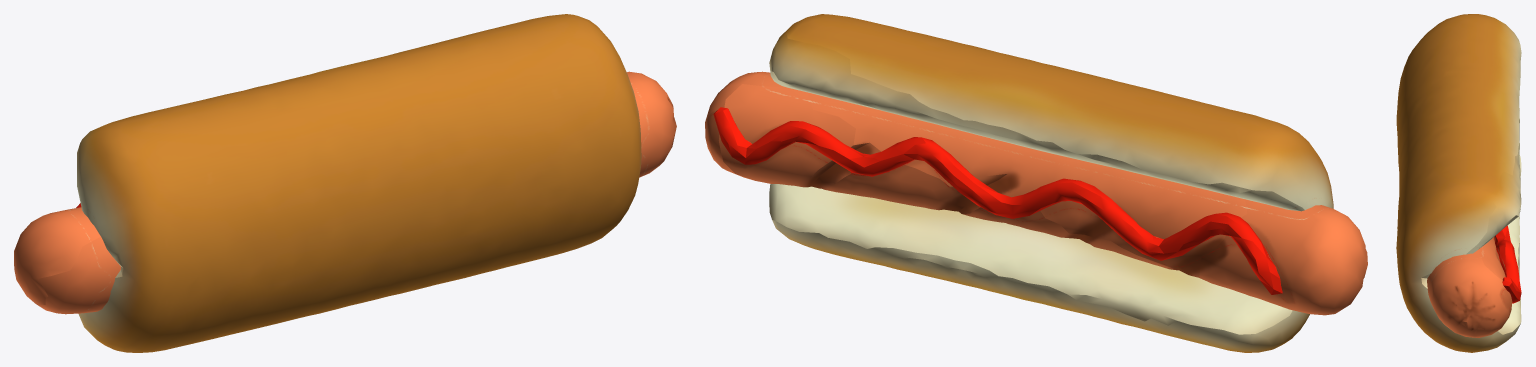
Rendered from hotdog1.fbx.
The picture shows the model from 3 angles, left to right: view 1: azimuth 30°, elevation 25°; view 2: azimuth 150°, elevation 25°; view 3: azimuth 270°, elevation 25°; orthographic projection. The views are drawn at different scales.
Visible parts, largest first — view 1: Bun, HotDog; view 2: Bun, HotDog, Sauce; view 3: Bun, HotDog, Sauce.
Part boxes in pixels (left/top/right/bottom): Bun: left=77, top=14, right=641, bottom=352; HotDog: left=14, top=71, right=676, bottom=314; Bun: left=769, top=14, right=1333, bottom=352; HotDog: left=705, top=71, right=1367, bottom=315; Sauce: left=713, top=107, right=1282, bottom=294; Bun: left=1396, top=14, right=1521, bottom=352; HotDog: left=1427, top=237, right=1512, bottom=337; Sauce: left=1494, top=225, right=1521, bottom=303.
Size of the model in its own units: 1.78 by 0.5894 by 0.3904.
1 material, 1 textured.
